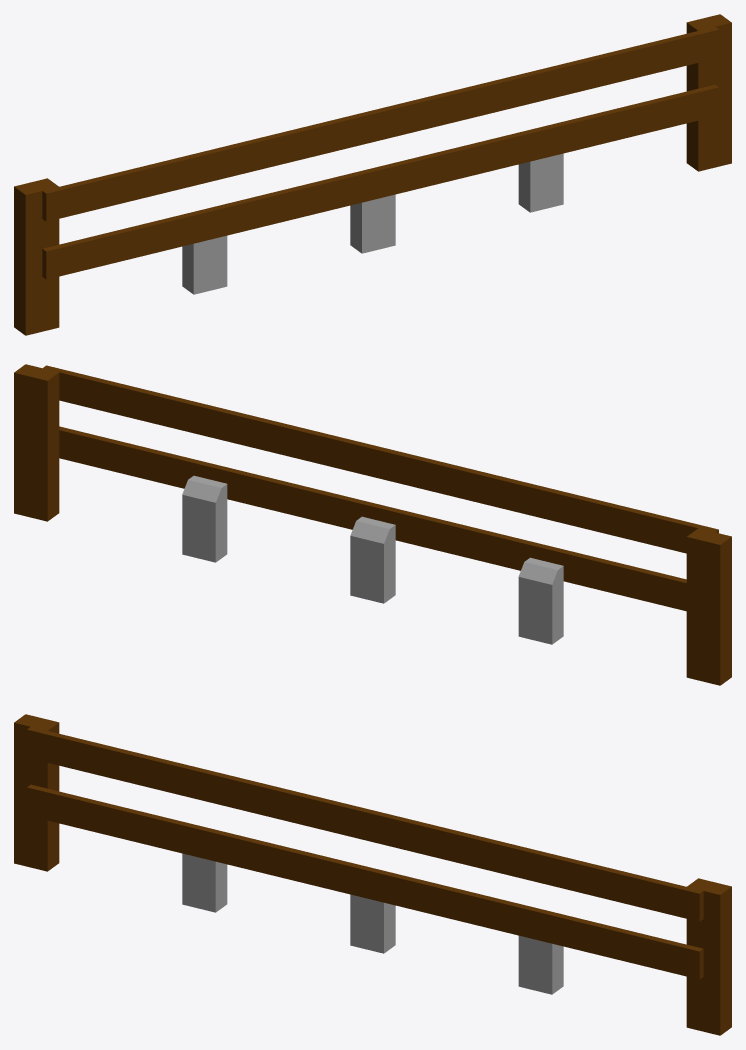
The model's file is THE fence.fbx.
The picture shows the model from 3 angles, top to bottom: view 1: azimuth 30°, elevation 25°; view 2: azimuth 150°, elevation 25°; view 3: azimuth 330°, elevation 25°; orthographic projection.
Visible parts, largest first — view 1: fence; view 2: fence; view 3: fence.
Boxes of the visible parts, <box> form: fence: <box>14,14,731,335</box>; fence: <box>14,364,731,685</box>; fence: <box>14,714,731,1035</box>.
Size of the model in its own units: 5.25 by 1 by 0.2.
